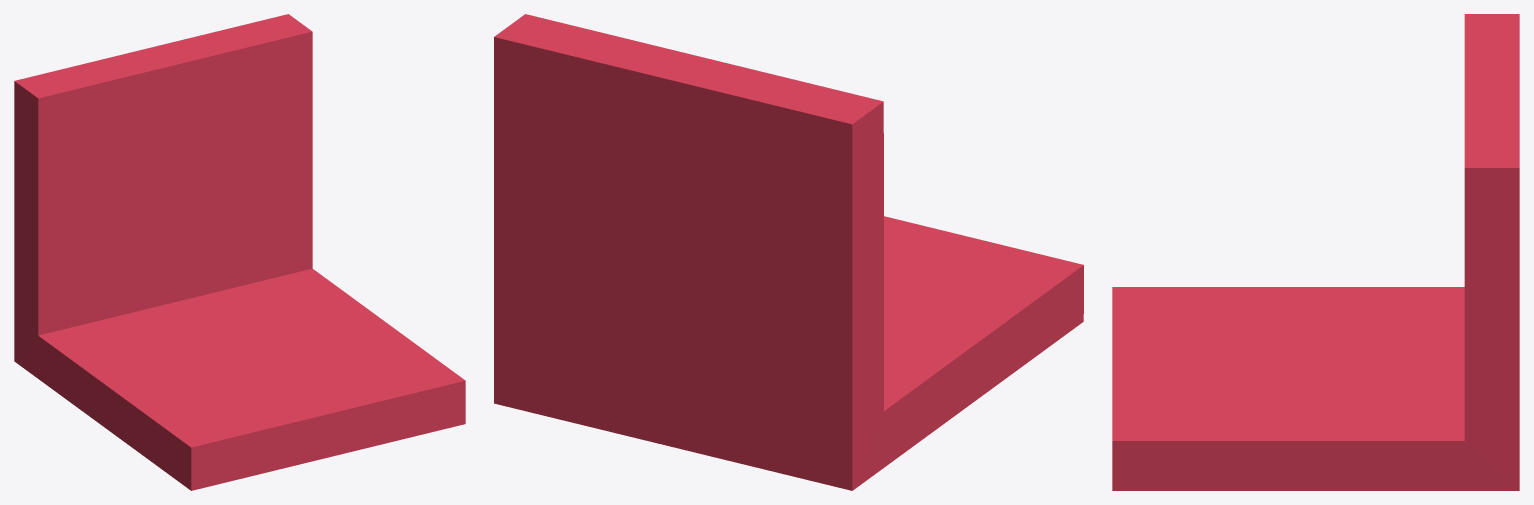
Rendered from Itr_Officechair_Seat_01.FBX.
The picture shows the model from 3 angles, left to right: view 1: azimuth 30°, elevation 25°; view 2: azimuth 150°, elevation 25°; view 3: azimuth 270°, elevation 25°; orthographic projection. The views are drawn at different scales.
Parts seen in each view (by area): view 1: Itr_Officechair_Seat_01; view 2: Itr_Officechair_Seat_01; view 3: Itr_Officechair_Seat_01.
Boxes of the visible parts, x1,y1,x2,y2 form: Itr_Officechair_Seat_01: (14, 14, 465, 490); Itr_Officechair_Seat_01: (494, 14, 1083, 490); Itr_Officechair_Seat_01: (1112, 14, 1519, 490).
Size of the model in its own units: 25.33 by 24.73 by 28.29.
